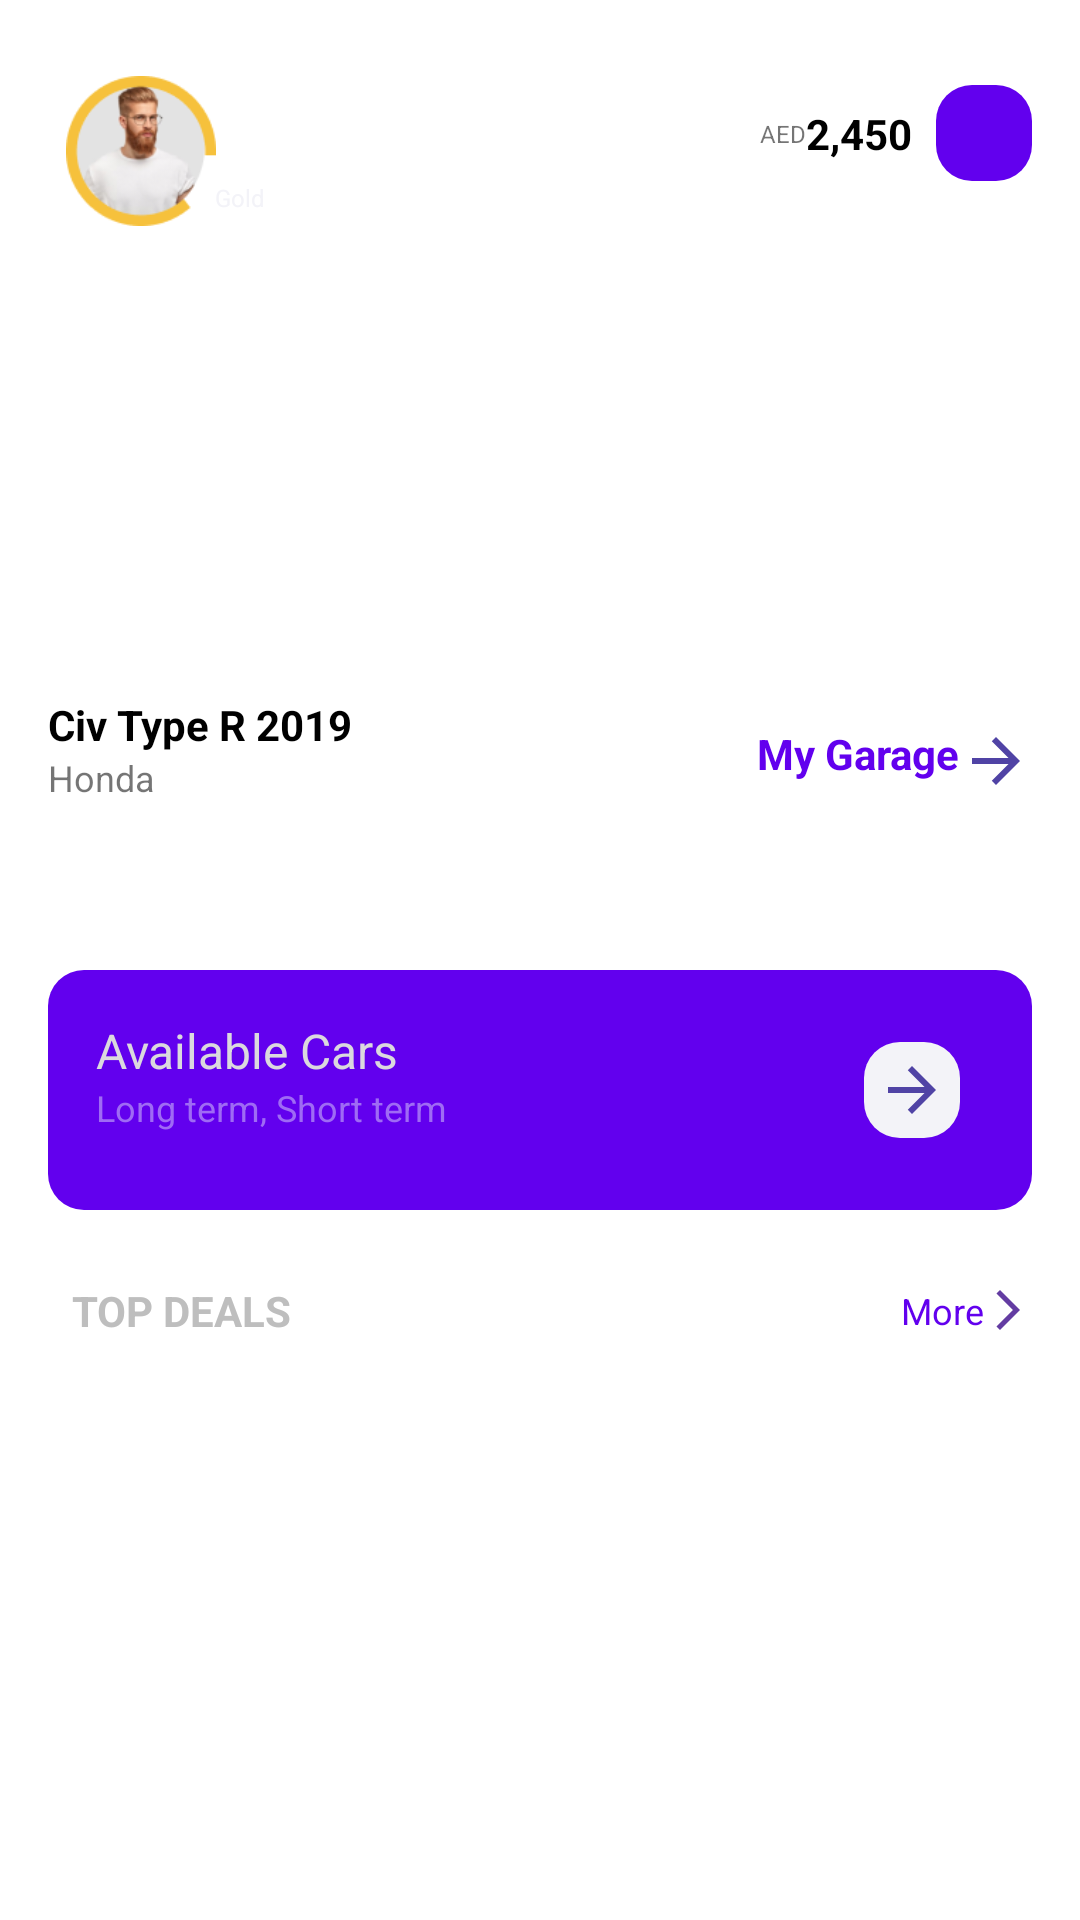

Where icons sit on this 1080 x 1920 app screen, as box(x1, y1, x2, y2):
arrow forward: box(864, 1042, 960, 1138)
user: box(66, 76, 216, 226)
